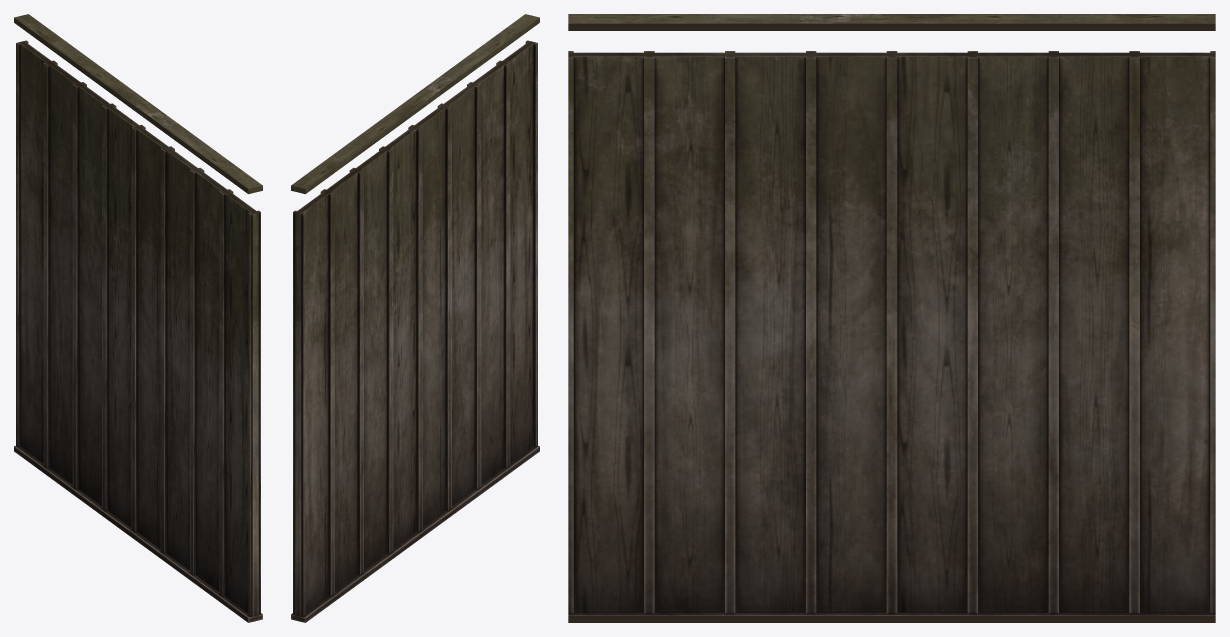
File: JT_Gy_Fence_A_01_x2.fbx
3 views of the same model, side by side, from view 1: azimuth 30°, elevation 25°; view 2: azimuth 150°, elevation 25°; view 3: azimuth 270°, elevation 25° (orthographic). The views are drawn at different scales.
Visible parts, largest first — view 1: JT_Gy_Fence_A_01_x2_LOD0, JT_Gy_Fence_A_01_x2; view 2: JT_Gy_Fence_A_01_x2, JT_Gy_Fence_A_01_x2_LOD0; view 3: JT_Gy_Fence_A_01_x2, JT_Gy_Fence_A_01_x2_LOD0.
Part boxes in pixels (left/top/right/bottom): JT_Gy_Fence_A_01_x2_LOD0: left=14, top=18, right=262, bottom=622; JT_Gy_Fence_A_01_x2: left=14, top=14, right=262, bottom=622; JT_Gy_Fence_A_01_x2: left=291, top=14, right=539, bottom=622; JT_Gy_Fence_A_01_x2_LOD0: left=291, top=14, right=539, bottom=622; JT_Gy_Fence_A_01_x2: left=568, top=14, right=1215, bottom=622; JT_Gy_Fence_A_01_x2_LOD0: left=568, top=14, right=1215, bottom=622.
Size of what is drawn, in the model's own units: 0.0714 by 2.04 by 2.
